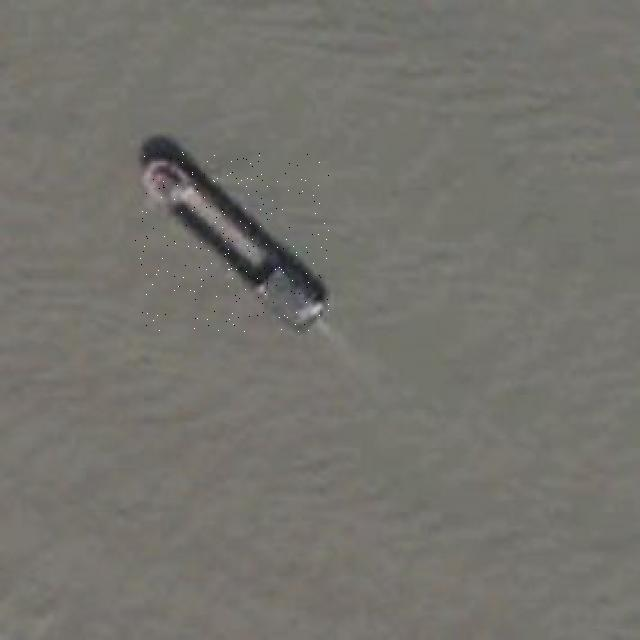boat: (133, 152, 329, 334)
